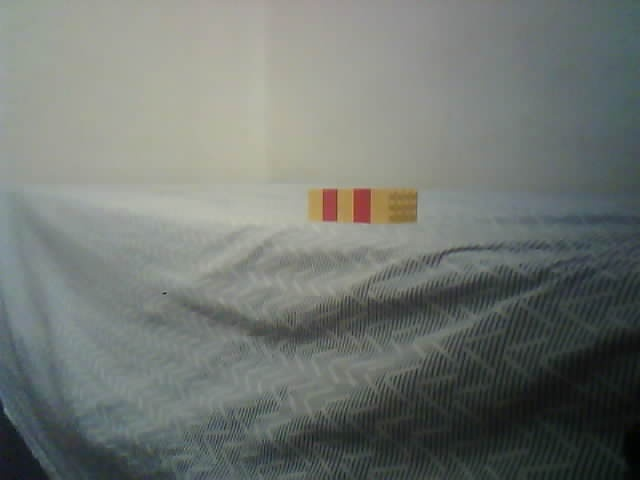lego: (306, 186, 418, 226)
